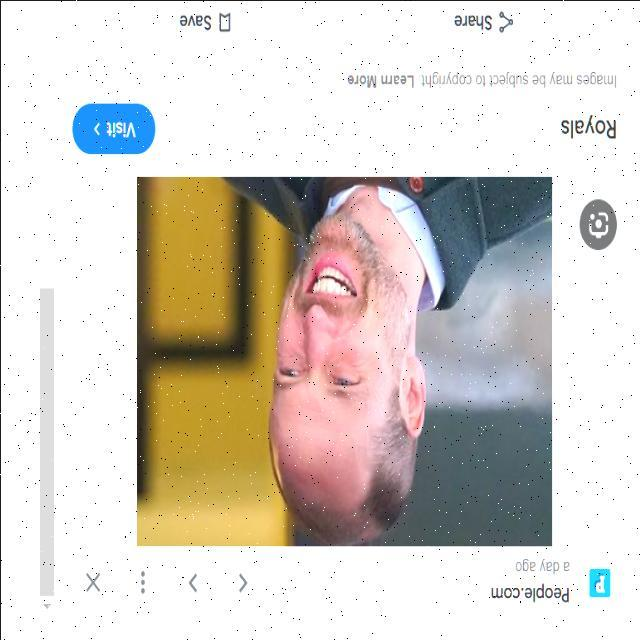face_no_mask: (271, 215, 425, 505)
